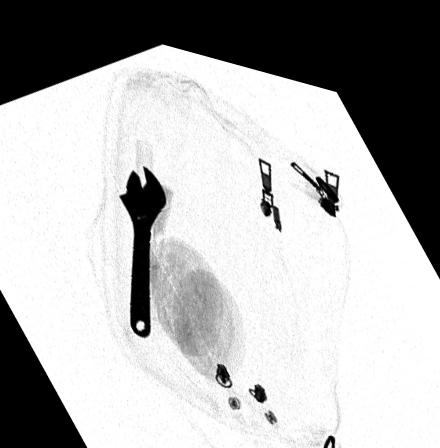Wrench: (115, 156, 166, 332)
